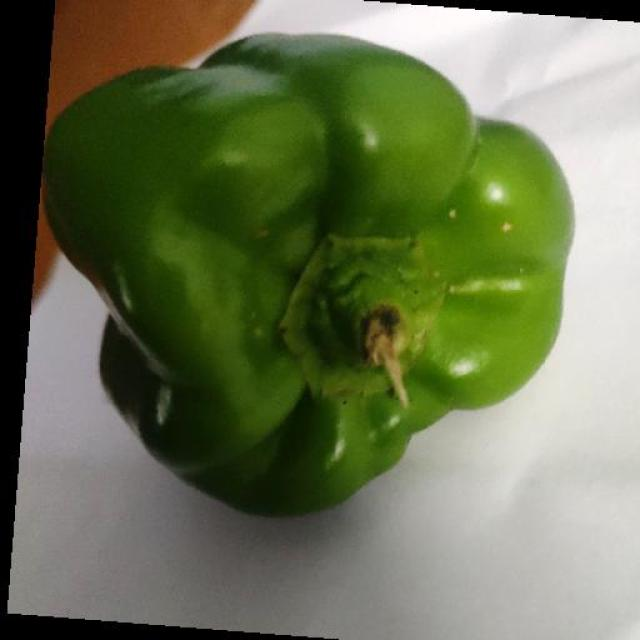Fresh_Capsicum: (57, 28, 556, 485)
